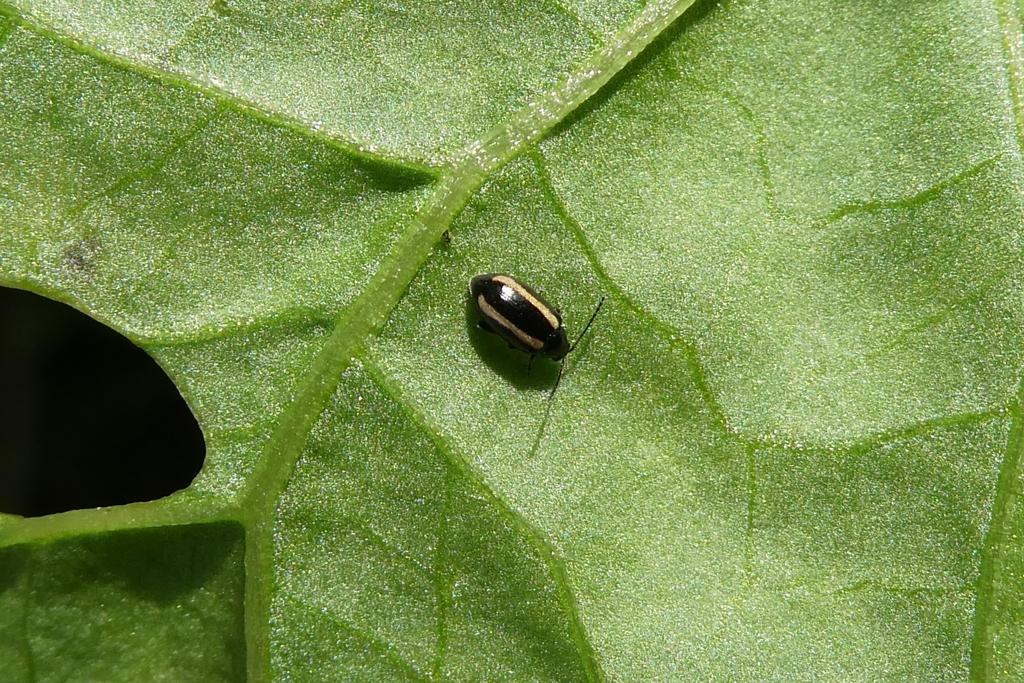flea_beetle: (444, 244, 623, 410)
